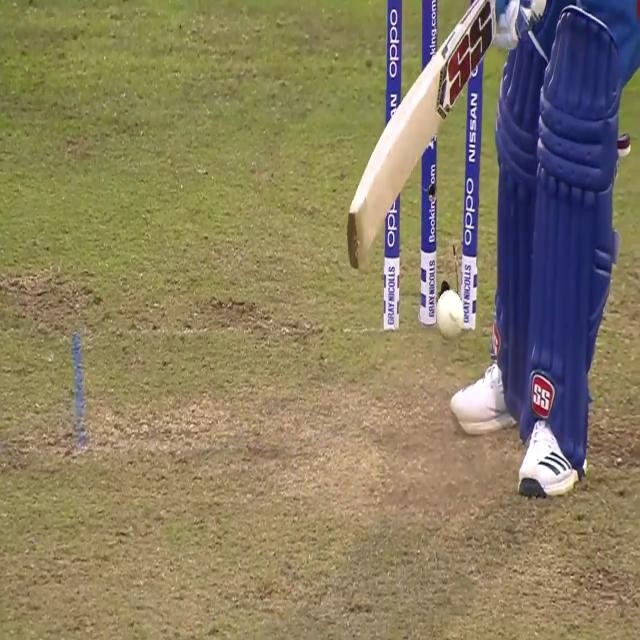ball: (436, 288, 464, 335)
